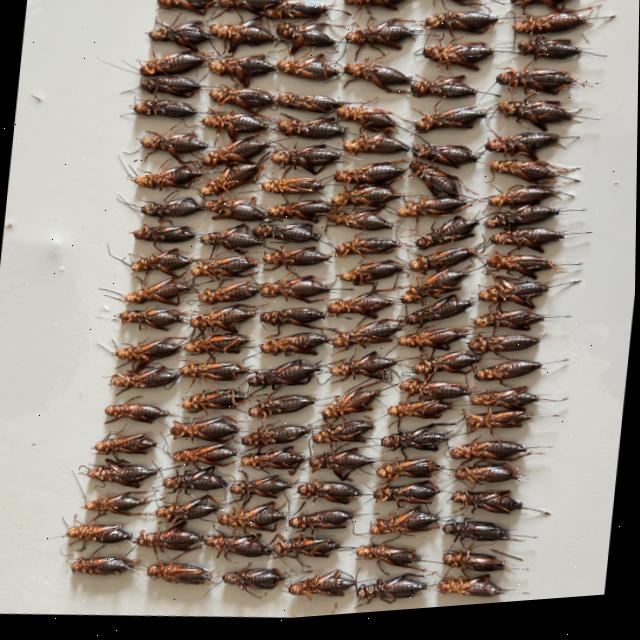egg: (496, 76, 597, 102), (497, 108, 579, 138), (487, 258, 568, 287), (479, 283, 549, 316), (84, 459, 159, 489), (310, 452, 378, 485), (209, 58, 276, 90), (402, 276, 469, 308), (209, 23, 277, 54), (489, 167, 580, 190), (199, 166, 264, 198), (346, 25, 415, 55), (358, 579, 429, 608), (417, 222, 479, 255), (322, 392, 388, 423), (124, 277, 192, 307), (219, 505, 287, 535), (330, 356, 398, 386), (271, 149, 341, 178), (485, 140, 563, 166), (202, 140, 269, 170), (290, 573, 357, 603), (200, 115, 269, 144), (404, 301, 473, 330), (140, 135, 208, 164), (423, 49, 493, 77), (138, 524, 205, 553), (335, 324, 402, 353), (344, 68, 410, 97), (260, 280, 330, 307), (470, 393, 552, 416), (189, 307, 256, 335), (328, 297, 400, 323), (371, 513, 440, 540), (491, 235, 565, 260), (248, 363, 319, 389), (411, 167, 462, 203), (148, 24, 211, 53), (409, 253, 478, 279), (242, 450, 306, 478), (130, 167, 201, 192), (276, 27, 335, 57), (171, 419, 239, 445), (275, 58, 342, 84), (413, 357, 480, 383), (452, 497, 524, 521), (437, 581, 515, 603), (442, 526, 520, 548), (415, 113, 486, 137), (199, 227, 262, 254), (156, 497, 221, 523), (517, 47, 601, 67), (488, 192, 561, 215), (382, 431, 449, 456), (513, 19, 585, 42), (274, 538, 343, 562), (423, 18, 498, 40), (132, 251, 193, 278), (485, 212, 563, 233), (456, 471, 527, 494), (474, 367, 542, 391), (119, 309, 193, 331), (338, 265, 403, 290), (451, 447, 532, 467), (261, 336, 330, 359), (413, 150, 479, 174), (472, 317, 547, 338), (85, 493, 153, 516), (201, 232, 261, 258), (210, 91, 275, 115), (205, 537, 272, 560), (110, 367, 180, 389), (334, 167, 404, 189), (139, 53, 203, 77), (164, 469, 228, 493), (149, 562, 213, 586), (337, 111, 396, 137), (344, 135, 410, 158), (191, 259, 257, 282), (357, 548, 423, 571), (375, 486, 441, 509), (377, 464, 443, 487), (399, 334, 468, 356), (203, 200, 266, 224), (332, 189, 400, 211), (224, 570, 286, 594), (114, 340, 181, 362), (410, 81, 477, 103), (267, 204, 333, 226), (181, 392, 247, 414), (249, 398, 315, 420), (73, 555, 142, 576), (105, 403, 174, 424), (278, 122, 347, 143), (397, 202, 466, 223), (400, 385, 472, 405), (468, 341, 540, 361), (298, 486, 363, 508), (510, 0, 581, 20), (174, 446, 238, 468), (185, 337, 249, 359), (467, 417, 533, 438), (277, 96, 342, 117), (313, 425, 375, 447), (243, 429, 311, 449), (180, 364, 251, 383), (328, 214, 392, 235), (232, 479, 293, 501), (132, 225, 195, 246), (445, 557, 508, 578), (67, 524, 133, 544), (335, 242, 401, 262), (93, 435, 158, 455), (253, 227, 321, 246), (141, 199, 202, 220), (140, 78, 201, 99), (199, 284, 257, 306), (263, 250, 330, 269), (263, 3, 325, 23), (261, 312, 326, 331), (290, 514, 354, 533), (389, 405, 452, 424), (261, 181, 326, 199), (216, 0, 283, 17), (131, 102, 196, 119), (341, 0, 413, 15), (385, 579, 429, 603), (156, 0, 215, 17), (226, 570, 271, 592), (581, 13, 616, 32), (224, 165, 260, 183), (434, 0, 485, 10), (540, 366, 570, 377), (547, 287, 583, 296), (537, 402, 569, 410), (526, 453, 554, 461), (542, 322, 573, 329), (533, 421, 562, 427), (528, 516, 552, 523), (506, 572, 530, 579), (555, 268, 584, 273), (507, 595, 531, 601), (513, 542, 539, 546), (307, 517, 318, 525), (353, 248, 362, 256), (579, 0, 610, 2), (419, 211, 428, 216), (331, 515, 337, 522), (292, 211, 300, 216), (224, 240, 230, 245)
